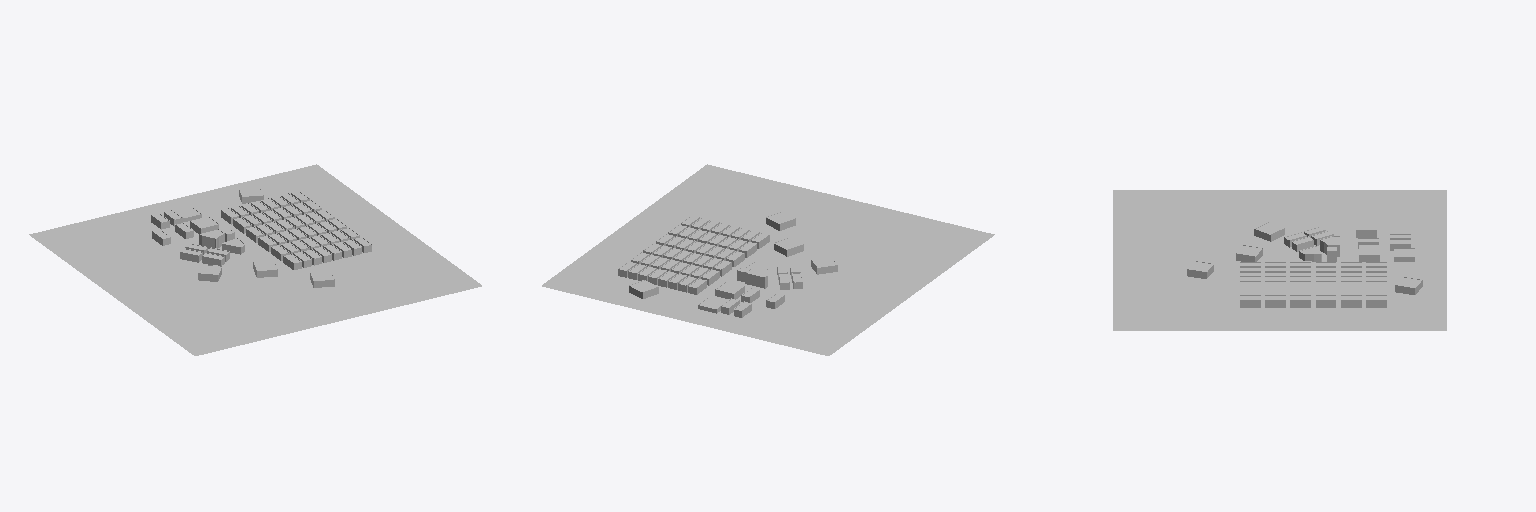
3 renders of one model, left to right at view 1: azimuth 30°, elevation 25°; view 2: azimuth 150°, elevation 25°; view 3: azimuth 270°, elevation 25°, orthographic.
Parts seen in each view (by area): view 1: 平面.010, 平面.018; view 2: 平面.010, 平面.018; view 3: 平面.010, 平面.018.
Part boxes in pixels (bbox=[...]): 平面.010: bbox=[29, 164, 481, 355]; 平面.018: bbox=[221, 191, 371, 269]; 平面.010: bbox=[542, 164, 994, 355]; 平面.018: bbox=[618, 215, 769, 294]; 平面.010: bbox=[1113, 190, 1446, 330]; 平面.018: bbox=[1240, 262, 1386, 307].
Size of the model in its own units: 38.23 by 1.83 by 38.23.